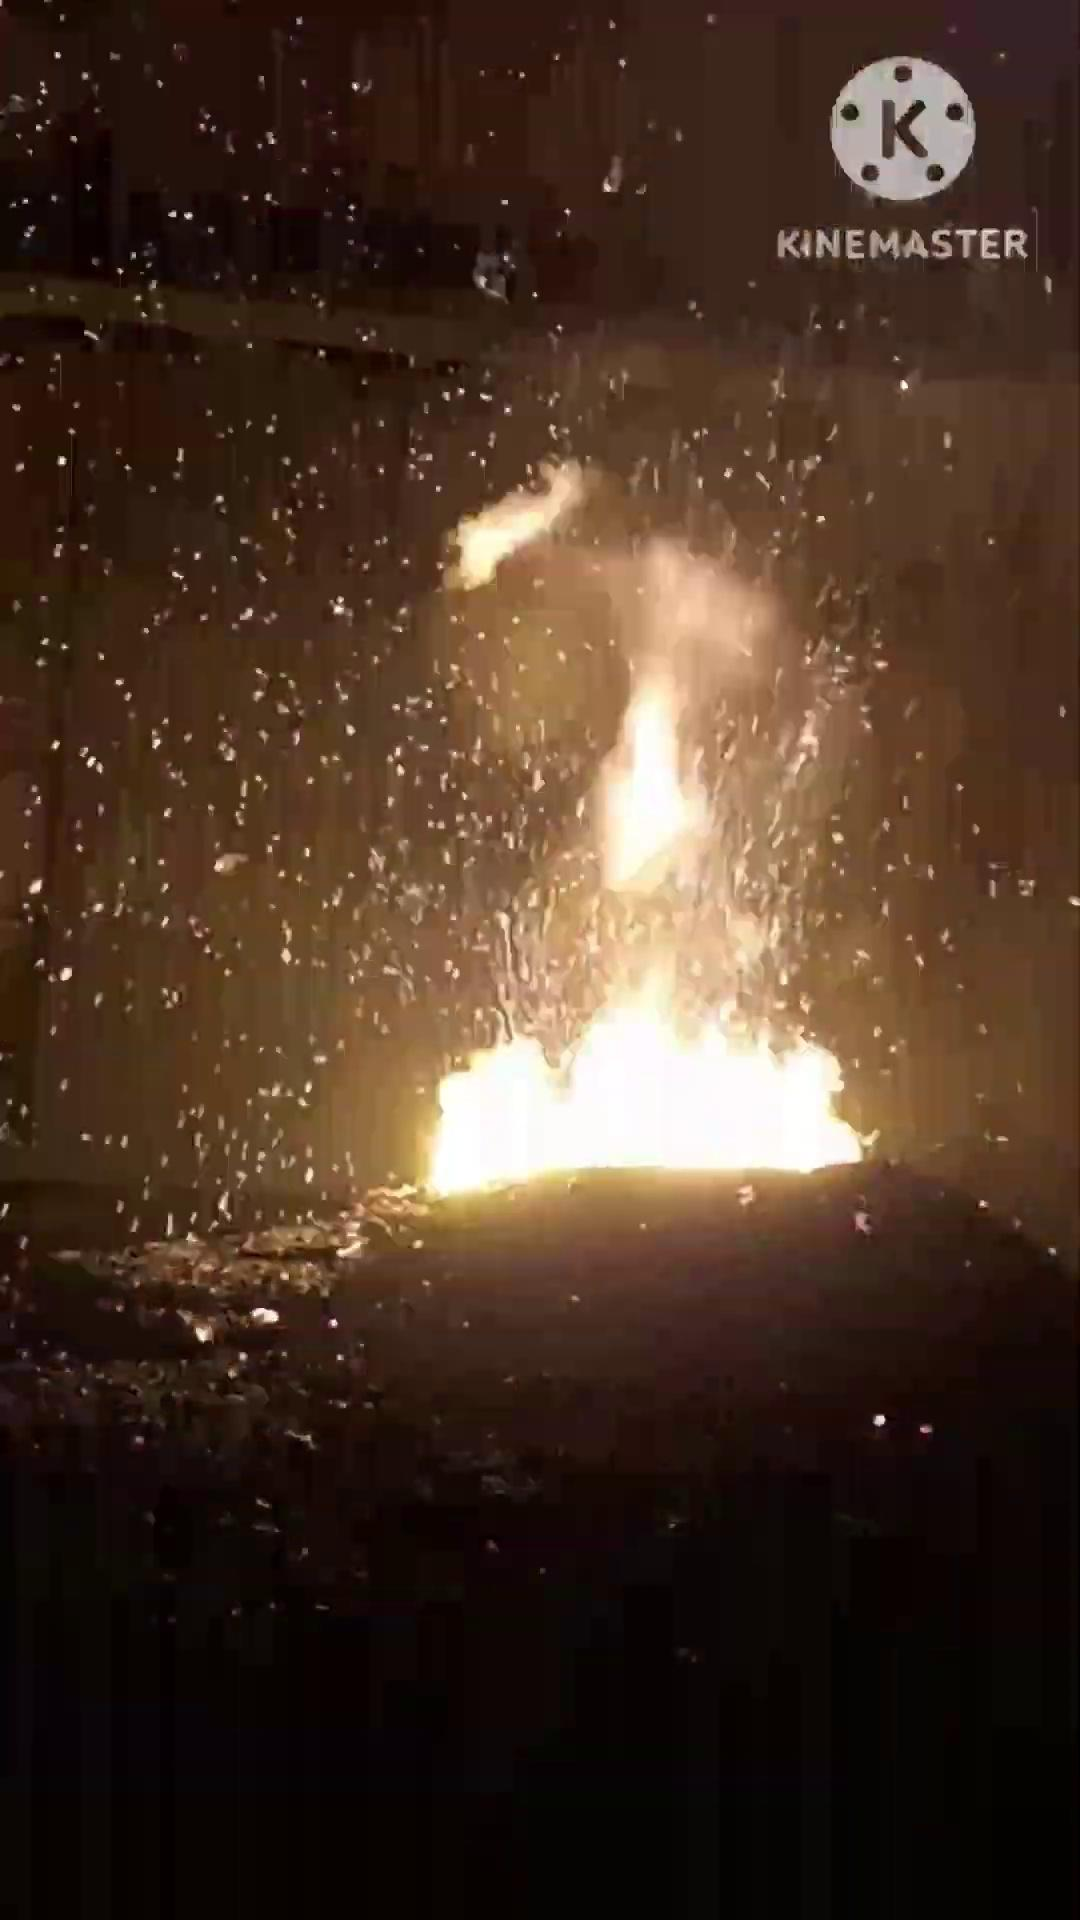fire: (105, 320, 1010, 1516)
